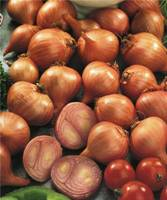onion: (2, 1, 166, 198)
